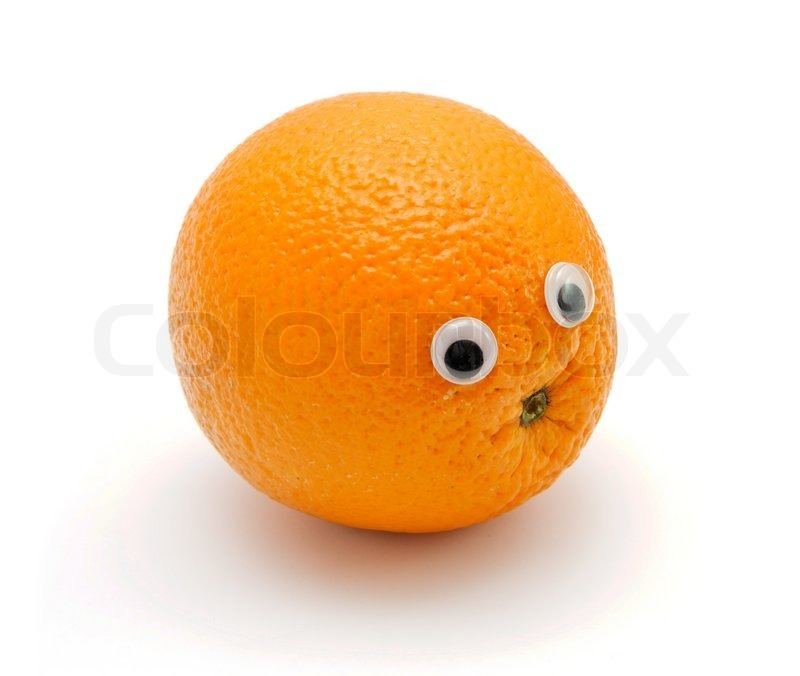orange: (166, 92, 638, 559)
